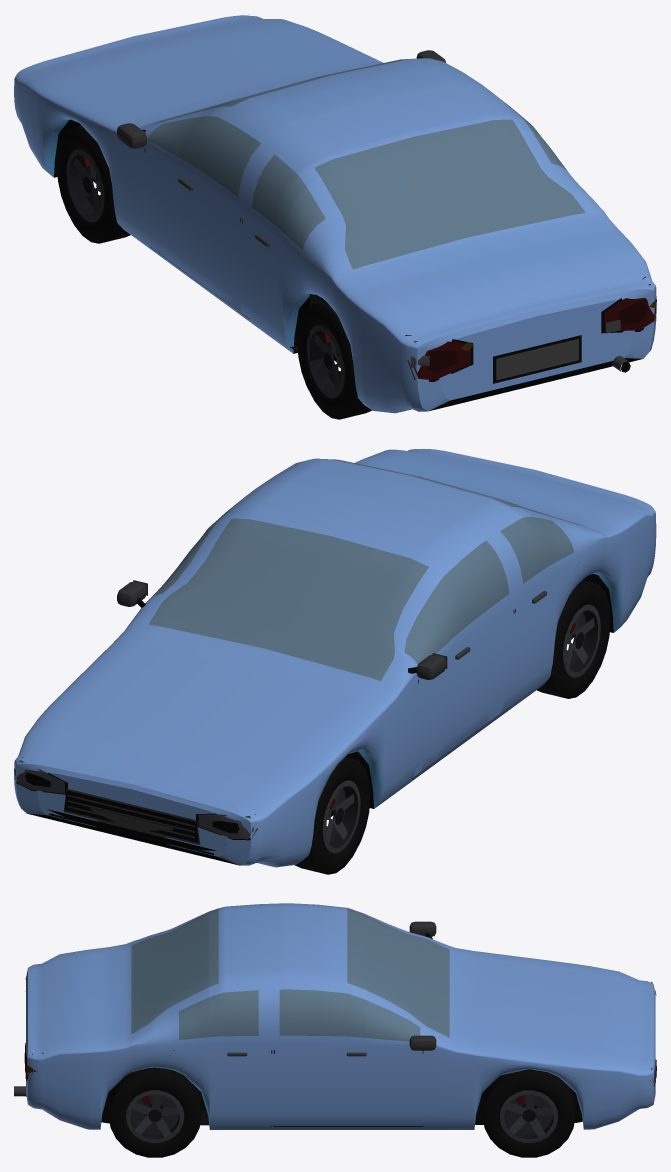
File: cv2_sedan.glb
3 renders of one model, top to bottom at view 1: azimuth 30°, elevation 25°; view 2: azimuth 150°, elevation 25°; view 3: azimuth 270°, elevation 25°, orthographic. The views are drawn at different scales.
Parts seen in each view (by area): view 1: Body, DoorL_Mesh; view 2: Body, DoorL_Mesh; view 3: Body, DoorR_Mesh.
Boxes of the visible parts, x1=… form: Body: x1=14, y1=15, x2=656, y2=419; DoorL_Mesh: x1=145, y1=116, x2=262, y2=312; Body: x1=14, y1=448, x2=656, y2=874; DoorL_Mesh: x1=404, y1=538, x2=513, y2=776; Body: x1=14, y1=903, x2=656, y2=1157; DoorR_Mesh: x1=274, y1=989, x2=422, y2=1117.
Size of what is drawn, in the model's own units: 2.15 by 1.45 by 4.85.
